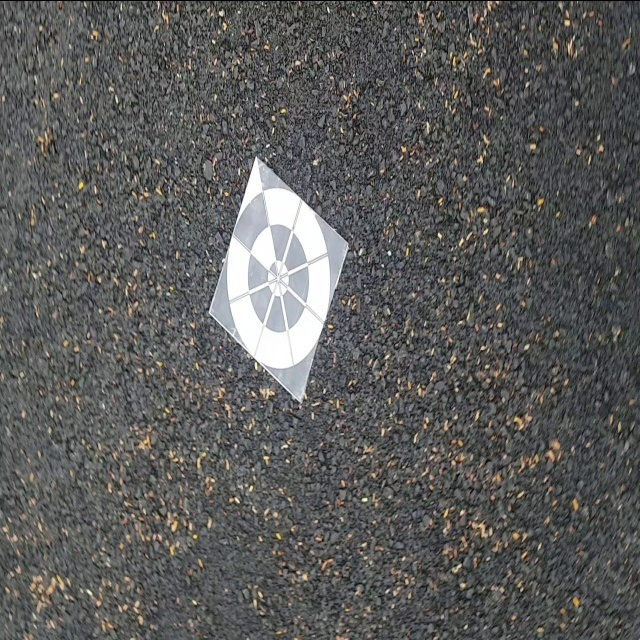landing-zone: (207, 154, 350, 408)
